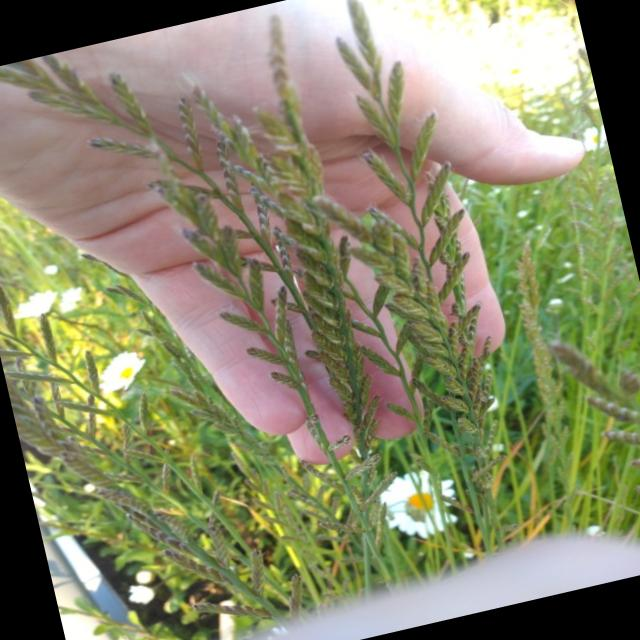Lolium: (0, 0, 640, 640), (0, 8, 348, 498), (226, 18, 389, 428), (335, 0, 495, 373), (346, 200, 474, 463)
